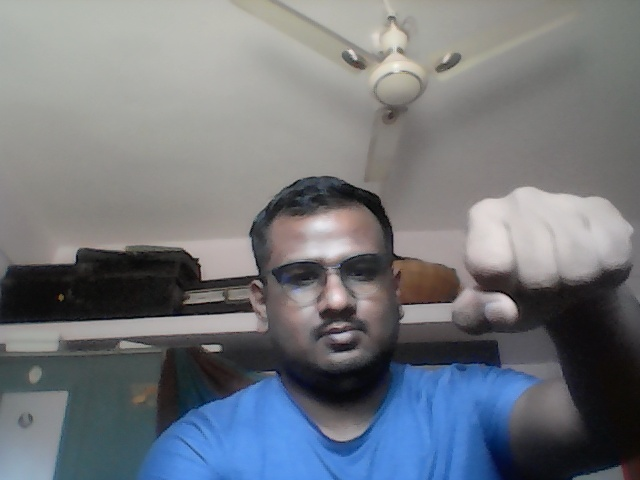Yes: (447, 183, 637, 336)
